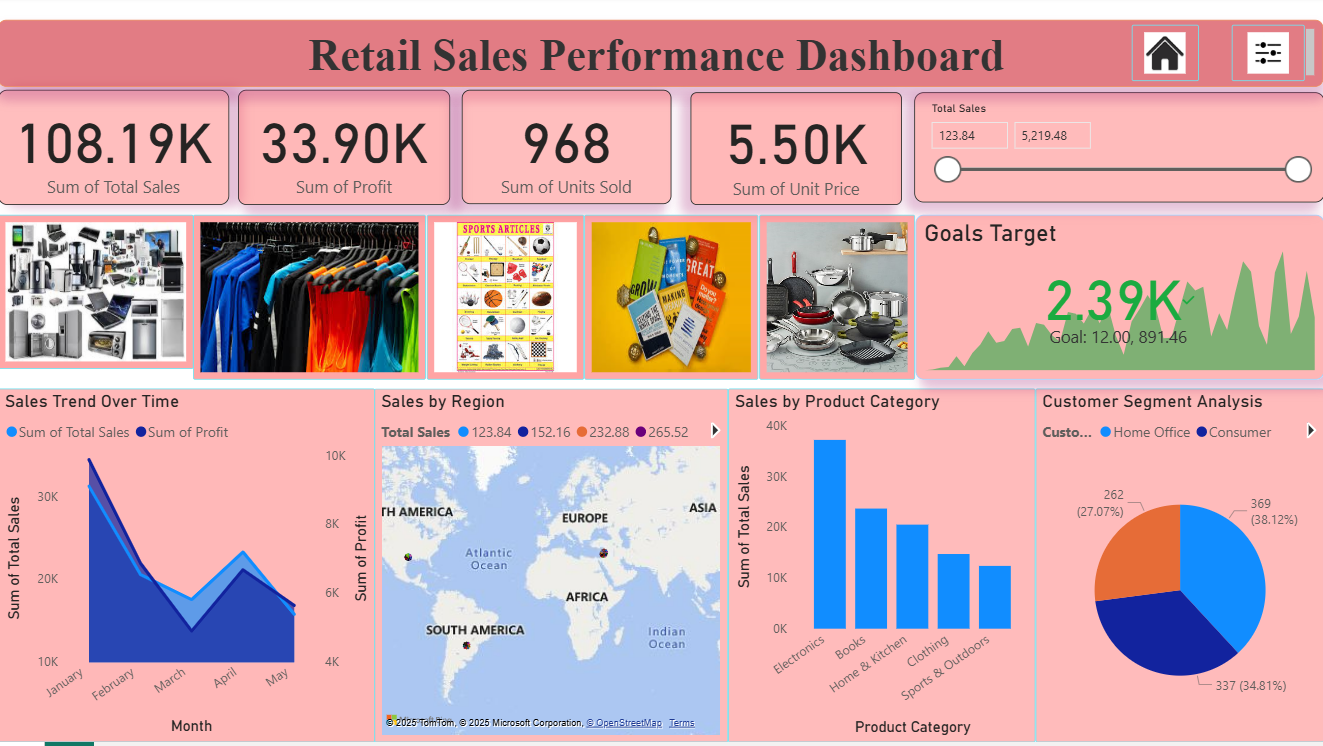

What the dashboard file says about the page in this screenshot:
{"tool":"powerbi","page":{"name":"Page 1","canvas":[1280,720],"ordinal":0},"visuals":[{"type":"slicer","fields":{"Values":["1 sales_performance_dashboard_sample.Total Sales"]},"box":[884.3,92.9,395.7,106.2],"z":0},{"type":"card","fields":{"Values":["Sum(1 sales_performance_dashboard_sample.Total Sales)"]},"box":[0,90.5,223.2,111],"z":1000},{"type":"card","fields":{"Values":["Sum(1 sales_performance_dashboard_sample.Profit)"]},"box":[231.6,90.5,205.1,111],"z":2000},{"type":"lineChart","title":"Sales Trend Over Time","fields":{"Category":["1 sales_performance_dashboard_sample.Date.Variation.Date Hierarchy.Month","1 sales_performance_dashboard_sample.Date.Variation.Date Hierarchy.Day"],"Y":["Sum(1 sales_performance_dashboard_sample.Total Sales)"],"Y2":["Sum(1 sales_performance_dashboard_sample.Profit)"]},"box":[0,378.8,364.3,341.4],"z":3000},{"type":"map","title":"Sales by Region","fields":{"Category":["1 sales_performance_dashboard_sample.Region"],"Series":["1 sales_performance_dashboard_sample.Total Sales"]},"box":[363.1,378.8,341.4,341.4],"z":4000},{"type":"columnChart","title":"Sales by Product Category","fields":{"Category":["1 sales_performance_dashboard_sample.Product Category"],"Y":["Sum(1 sales_performance_dashboard_sample.Total Sales)"]},"box":[704.6,378.8,296.8,341.4],"z":5000},{"type":"pieChart","title":"Customer Segment Analysis","fields":{"Category":["1 sales_performance_dashboard_sample.Customer Segment"],"Y":["Sum(1 sales_performance_dashboard_sample.Units Sold)"]},"box":[1001.3,378.8,278.7,341.4],"z":6000},{"type":"textbox","box":[0,22.4,1279.6,65],"z":7000},{"type":"card","fields":{"Values":["Sum(1 sales_performance_dashboard_sample.Units Sold)"]},"box":[448.1,90.6,202.3,110.5],"z":8000},{"type":"card","fields":{"Values":["Sum(1 sales_performance_dashboard_sample.Unit Price)"]},"box":[668.4,92.9,203.9,108.6],"z":9000},{"type":"image","box":[0,211.3,188.7,148.9],"z":10000},{"type":"image","box":[188.7,211.3,225.1,159.3],"z":11000},{"type":"image","box":[413.9,211.3,152.4,159.3],"z":12000},{"type":"image","box":[566.2,211.3,168,159.3],"z":13000},{"type":"kpi","title":"Goals Target","fields":{"Indicator":["Sum(1 sales_performance_dashboard_sample.Total Sales)"],"Goal":["Sum(1 sales_performance_dashboard_sample.Units Sold)","Sum(1 sales_performance_dashboard_sample.Profit)"],"TrendLine":["1 sales_performance_dashboard_sample.Unit Price"]},"box":[885.5,211.1,394.5,159.3],"z":14000},{"type":"image","box":[1190.4,27.3,70.8,54.6],"z":16000},{"type":"image","box":[1094.8,27.3,64.5,54.6],"z":17000},{"type":"image","box":[734.2,211.3,150.7,159.3],"z":18000}]}

Visuals, with their boxes in screenshot pixels (x1, y1, x2, y2), scaled from the page's 1280x720 canvas onto the 1323x746 screenshot:
slicer - 1 sales_performance_dashboard_sample.Total Sales: (914,96,1322,206)
card - Sum(1 sales_performance_dashboard_sample.Total Sales): (0,94,231,209)
card - Sum(1 sales_performance_dashboard_sample.Profit): (239,94,451,209)
"Sales Trend Over Time" lineChart: (0,392,377,745)
"Sales by Region" map: (375,392,728,745)
"Sales by Product Category" columnChart: (728,392,1035,745)
"Customer Segment Analysis" pieChart: (1035,392,1322,745)
textbox: (0,23,1322,91)
card - Sum(1 sales_performance_dashboard_sample.Units Sold): (463,94,672,208)
card - Sum(1 sales_performance_dashboard_sample.Unit Price): (691,96,902,209)
image: (0,219,195,373)
image: (195,219,428,384)
image: (428,219,585,384)
image: (585,219,759,384)
"Goals Target" kpi: (915,219,1322,384)
image: (1230,28,1304,85)
image: (1132,28,1198,85)
image: (759,219,915,384)
